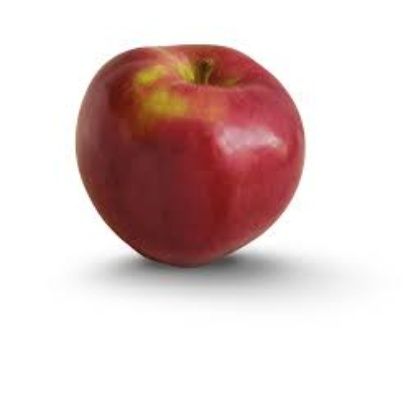tao: (71, 35, 301, 271)
